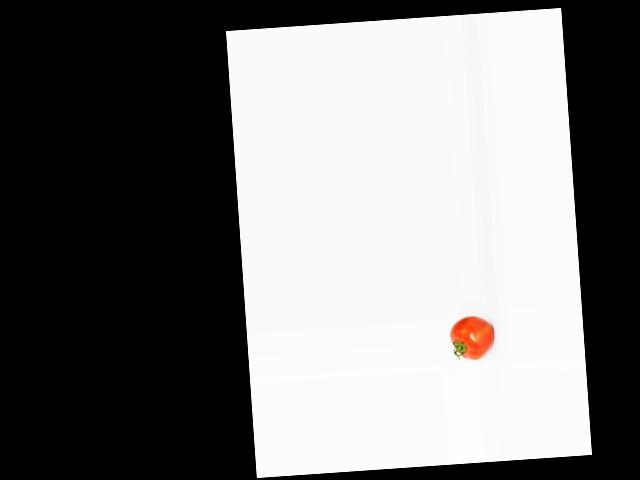tomato: (448, 314, 495, 361)
